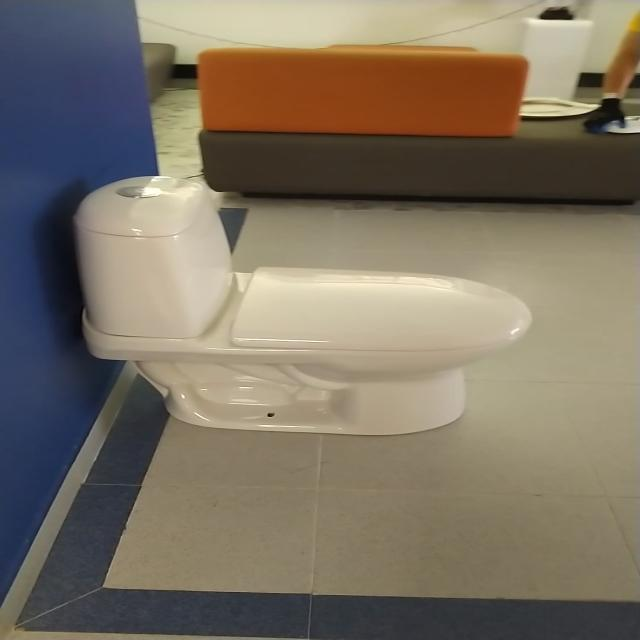toilet: (73, 175, 532, 436)
